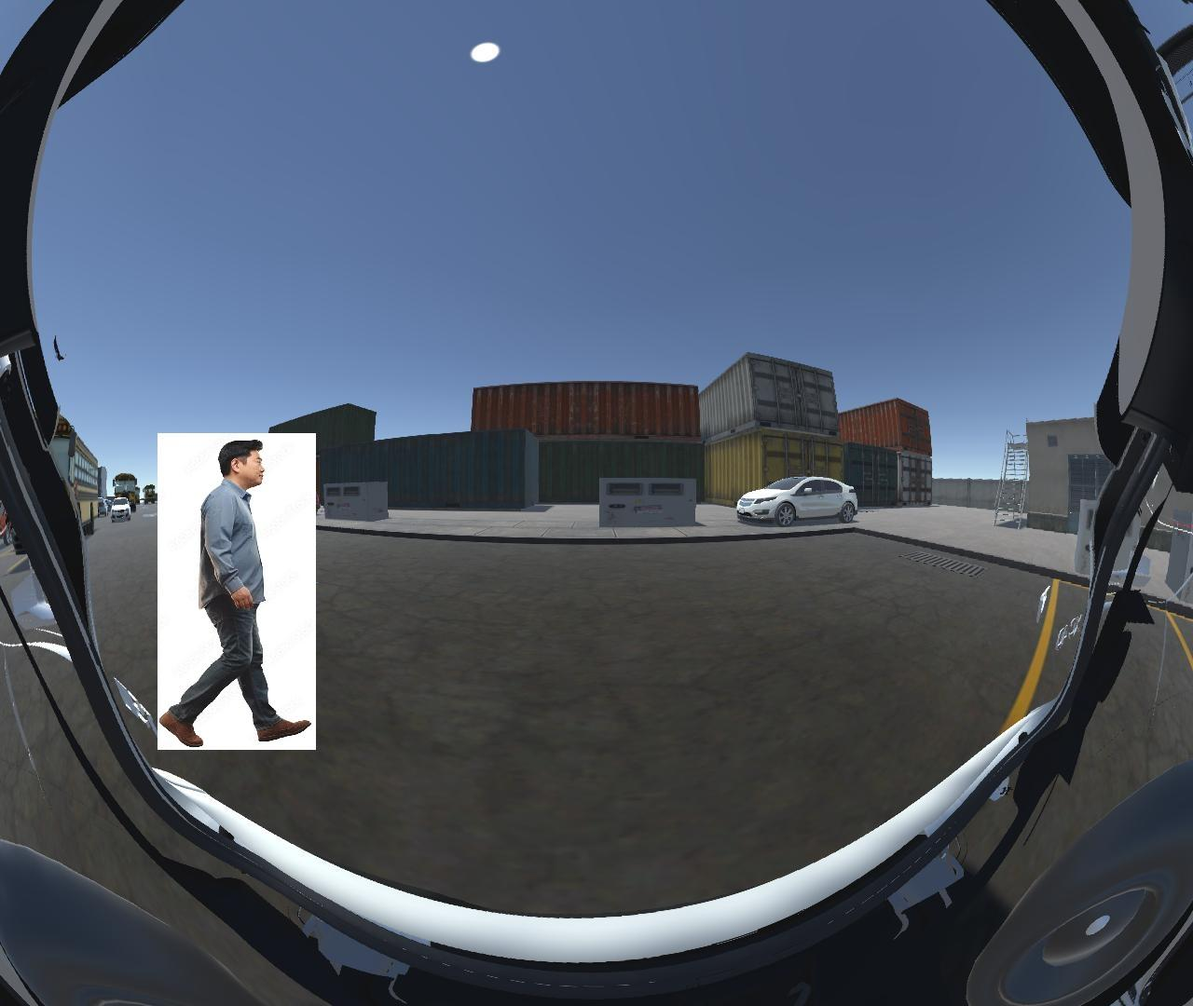objects: (155, 431, 315, 751)
